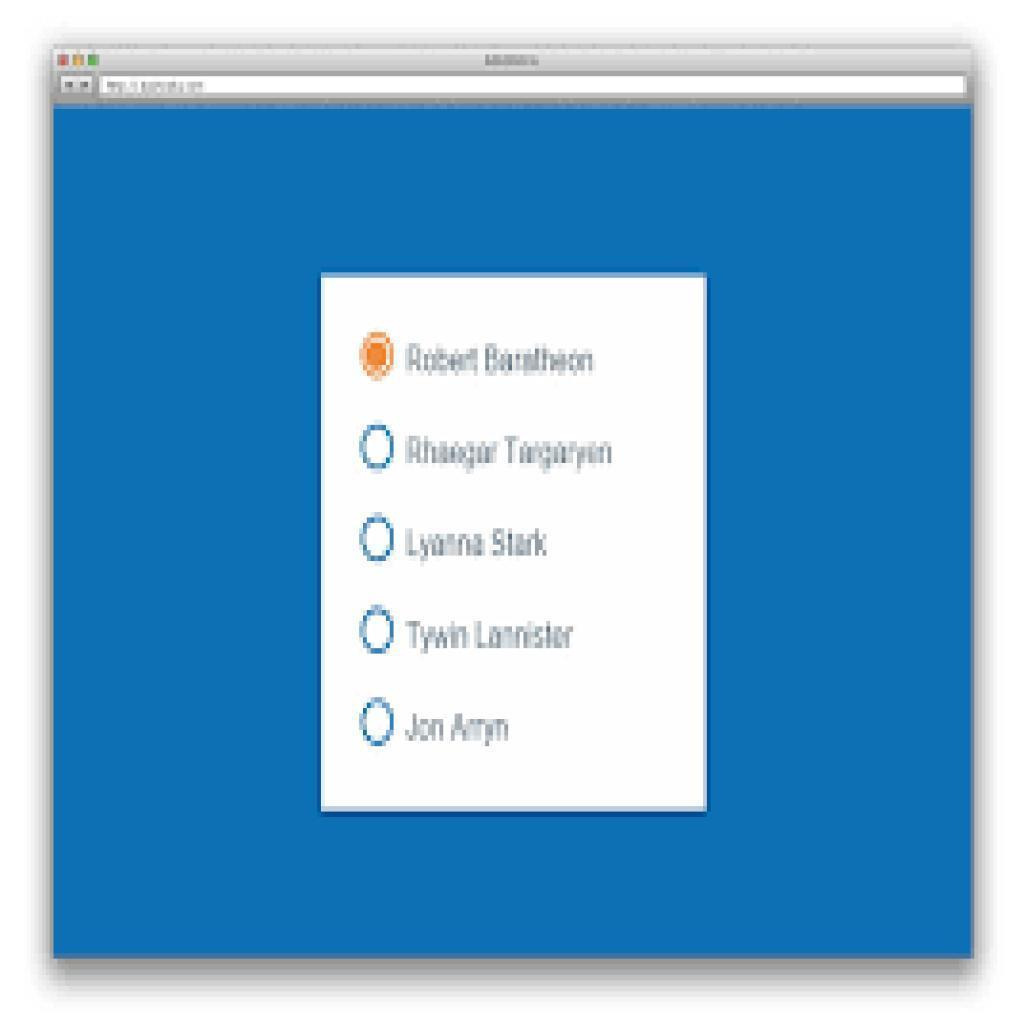radio: (357, 600, 400, 657), (357, 327, 398, 383), (355, 510, 398, 563), (358, 420, 398, 471), (359, 697, 398, 749)
